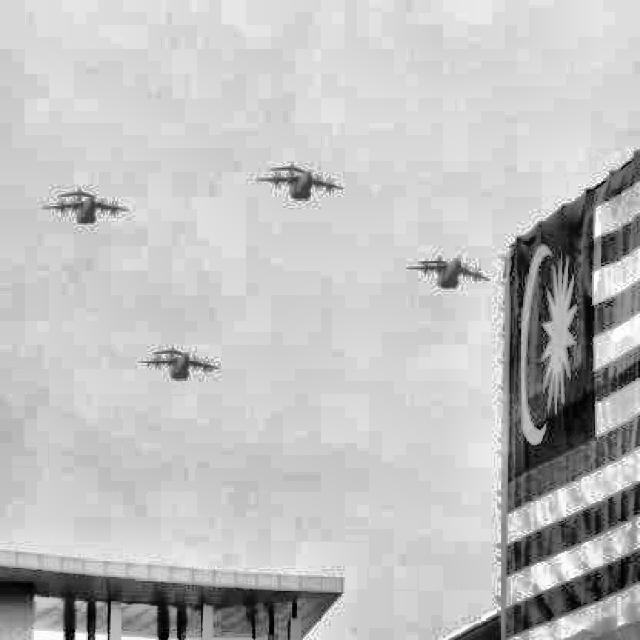A400M: (256, 162, 344, 201), (43, 190, 128, 224), (406, 256, 489, 290), (138, 346, 220, 380)
